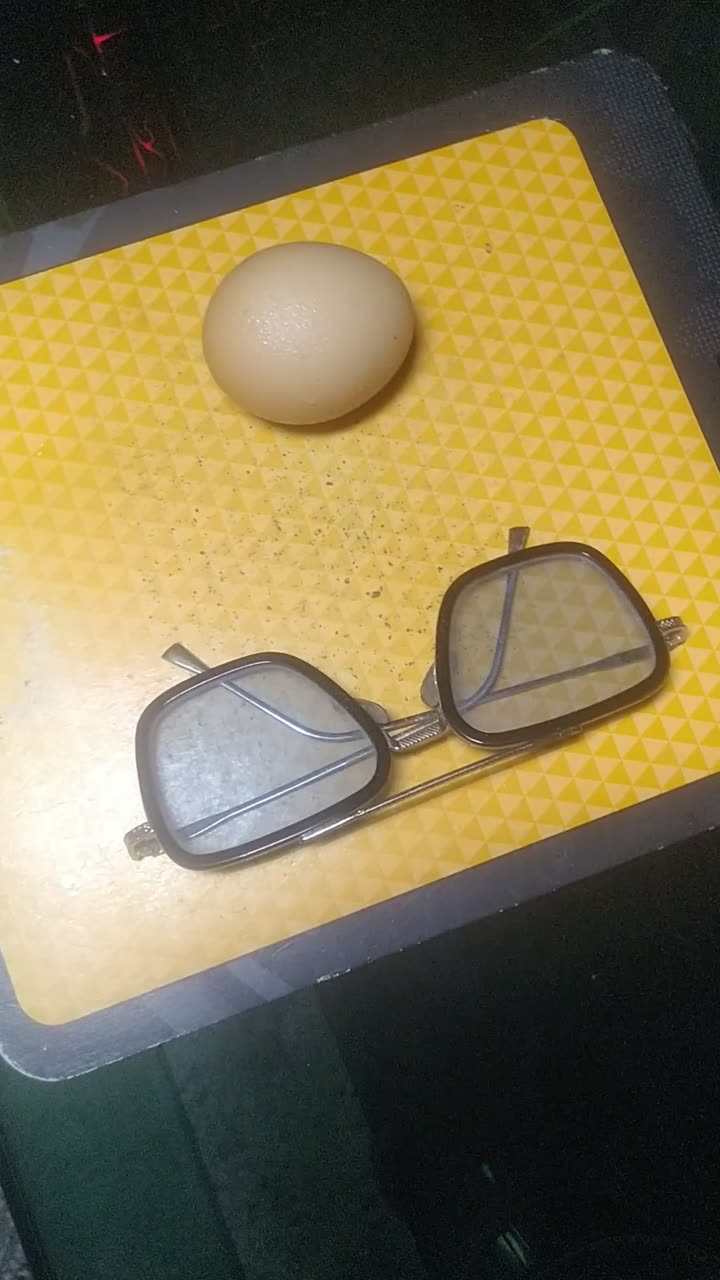egg: (203, 241, 420, 433)
sunglass: (126, 510, 694, 850)
